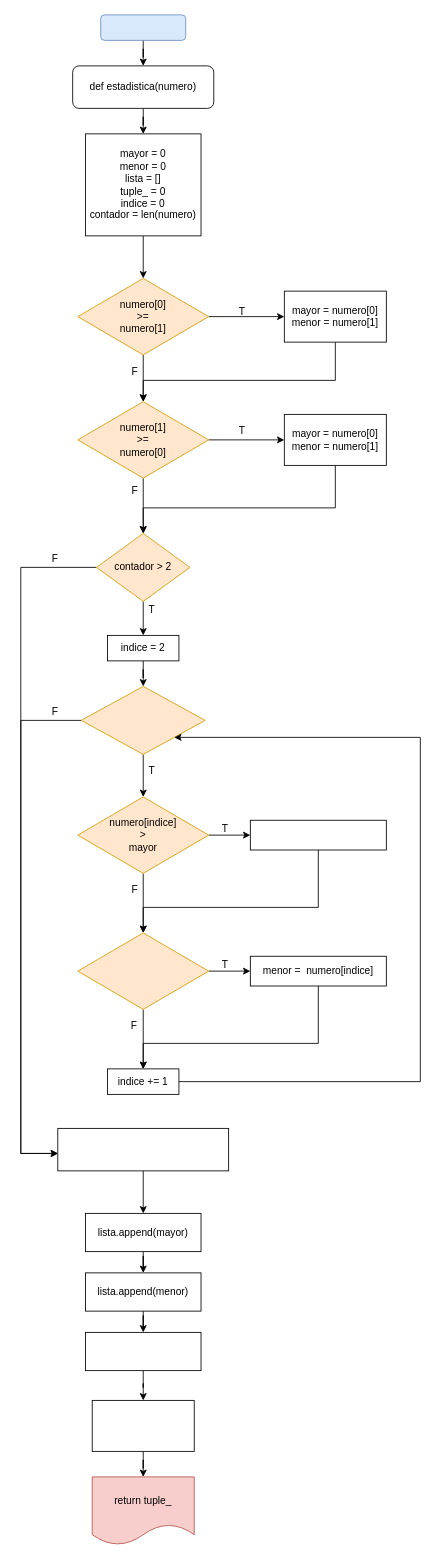
The diagram is 442 pixels wide and 1560 high, and some of its shapes have lost their labels. The shapes that lost their labels are listed below. From the top down, each one's box as (x1, y1, x2, y2) in pixels, then its label:
(100, 14, 186, 40): inicio
(80, 686, 205, 754): contador != indice
(249, 819, 386, 850): mayor = numero[indice]
(77, 932, 209, 1009): numero[indice] < menor
(57, 1128, 229, 1171): promedio = (mayor + menor) / 2
(85, 1332, 201, 1371): lista.append(promedio)
(91, 1400, 194, 1451): tuple_ = tuple(lista)
